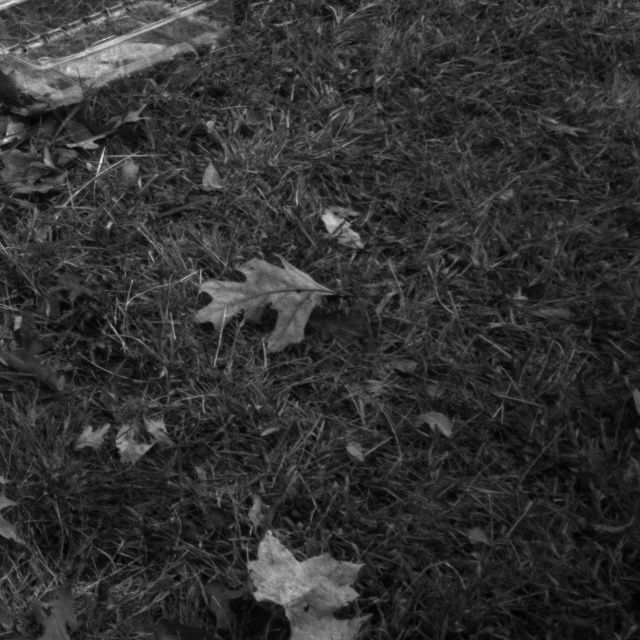container: (0, 0, 253, 122)
